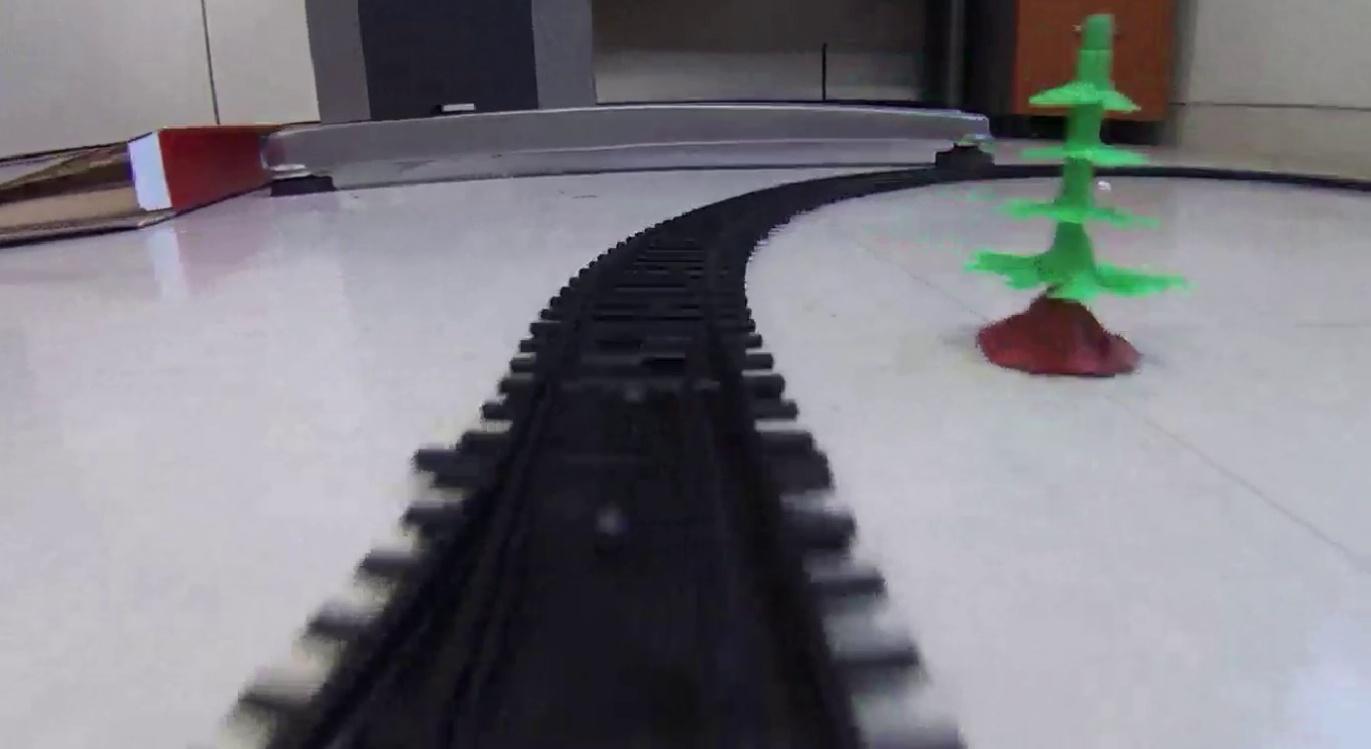tree: (963, 12, 1189, 378)
